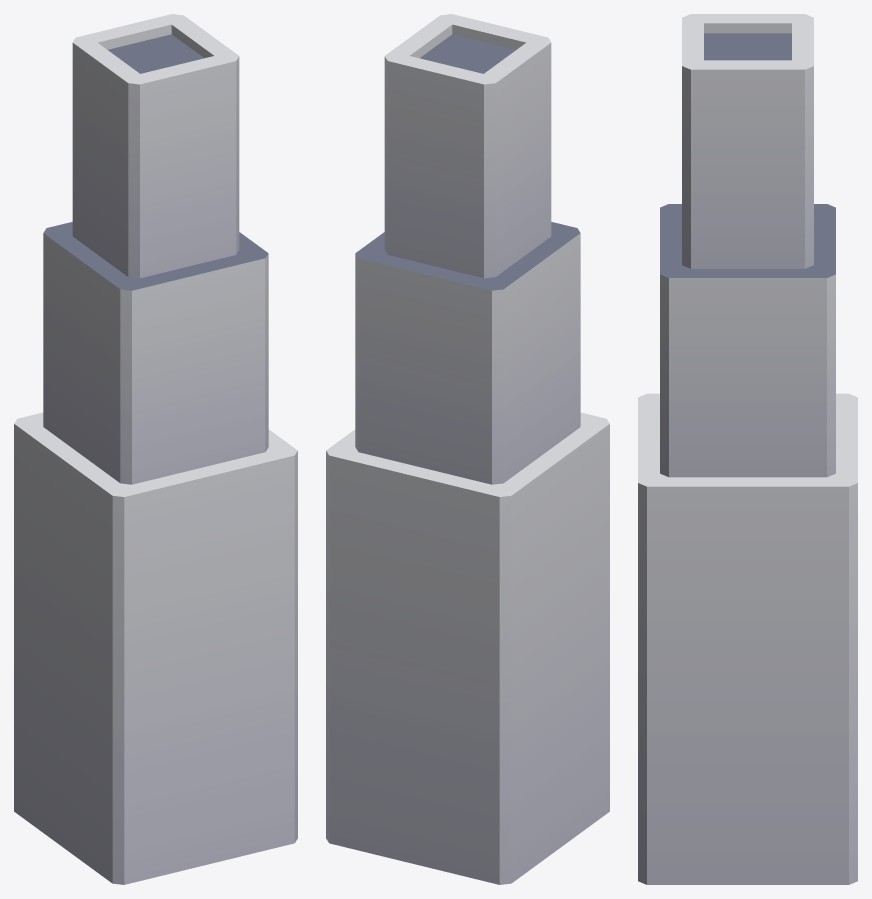
The model's file is commercial__low-detail-building-f.glb.
3 views of the same model, side by side, from view 1: azimuth 30°, elevation 25°; view 2: azimuth 150°, elevation 25°; view 3: azimuth 270°, elevation 25° (orthographic). The views are drawn at different scales.
Parts seen in each view (by area): view 1: low-detail-building-f; view 2: low-detail-building-f; view 3: low-detail-building-f.
Boxes of the visible parts, box(x1,y1,x2,y2) form: low-detail-building-f: box(14, 14, 297, 884); low-detail-building-f: box(326, 14, 609, 884); low-detail-building-f: box(638, 14, 857, 884).
Bounding box in the file's own units: 0.5001 × 2 × 0.5001.
Materials: 1 (1 with a texture image).
